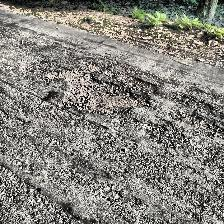pothole: (44, 62, 158, 116)
